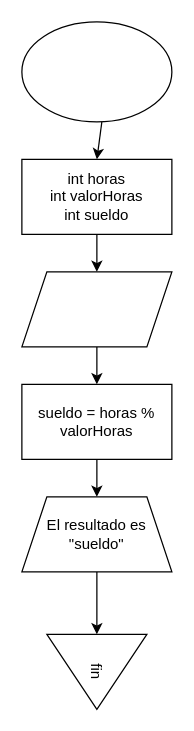
This 194x731 diagram has some shape labels left out. Each missing label, with the box of its shape:
Horas trabajadas: (21, 21, 172, 122)
Ingresa horas trabajadas: (21, 271, 172, 347)
